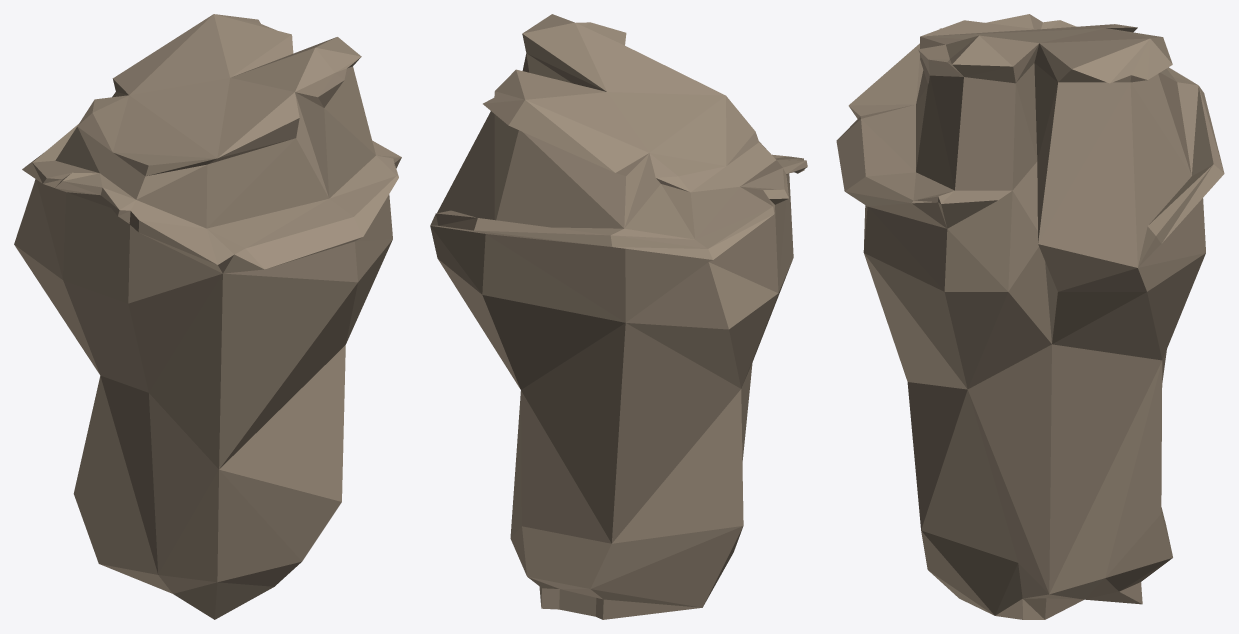
File: SM_Env_Rock_03.fbx
3 views of the same model, side by side, from view 1: azimuth 30°, elevation 25°; view 2: azimuth 150°, elevation 25°; view 3: azimuth 270°, elevation 25° (orthographic). The views are drawn at different scales.
Visible parts, largest first — view 1: SM_Env_Rock_03; view 2: SM_Env_Rock_03; view 3: SM_Env_Rock_03.
Part boxes in pixels (left/top/right/bottom): SM_Env_Rock_03: left=14, top=14, right=401, bottom=619; SM_Env_Rock_03: left=430, top=14, right=807, bottom=619; SM_Env_Rock_03: left=836, top=14, right=1224, bottom=619.
Size of the model in its own units: 0.0129 by 0.0215 by 0.0124.
1 material, 1 textured.
